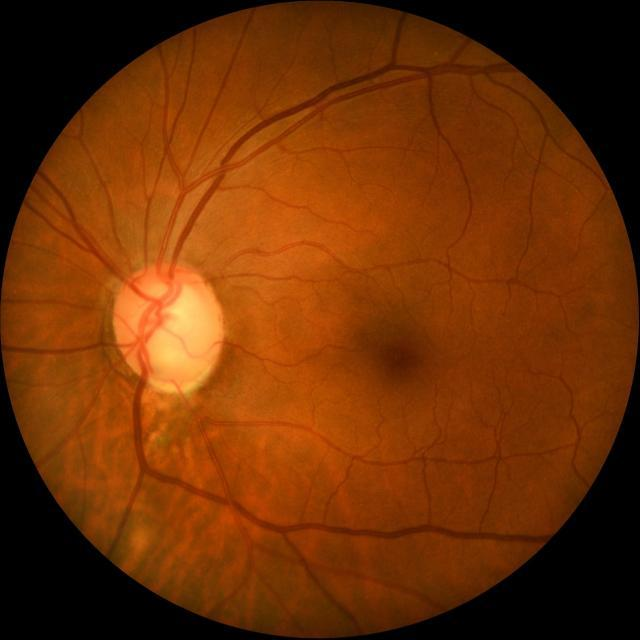OC: (133, 282, 208, 367)
OD: (112, 263, 224, 389)
